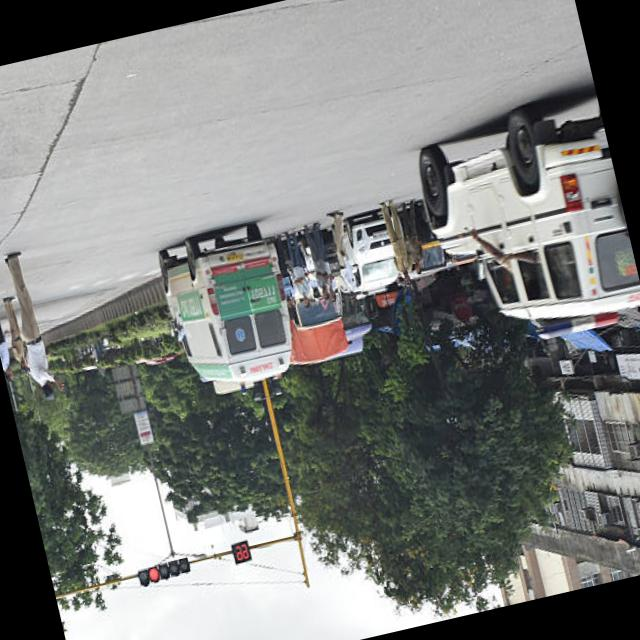ambulance: (136, 183, 314, 420), (234, 340, 276, 381)
